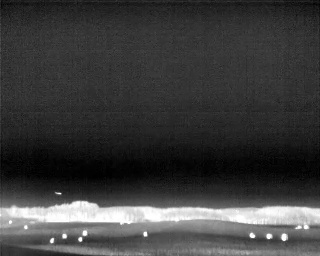AIRPLANE: (53, 189, 63, 197)
